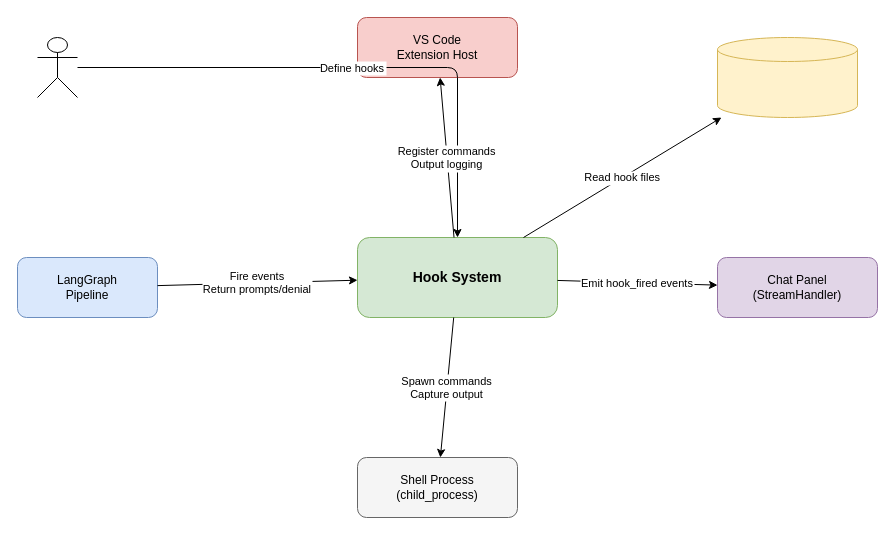
This 895x535 diagram has some shape labels left out. Here are the shapes that lost their labels. From the top down, the centre of each, then its label:
At (x=57, y=67): "Developer (Hook Author)".
At (x=787, y=77): "File System (.kiro/hooks/)".
